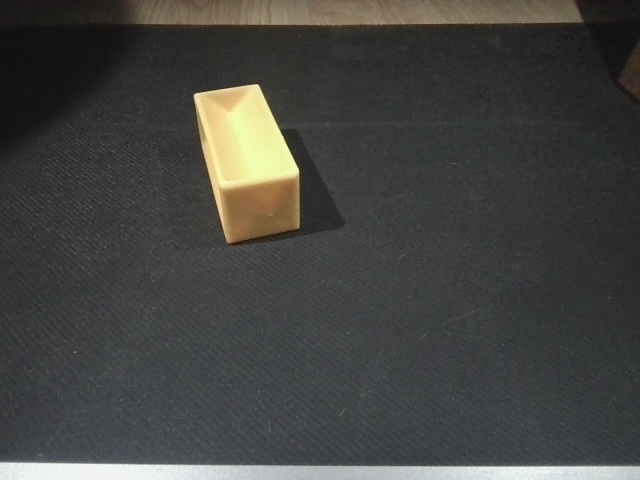YellowSample: (189, 78, 307, 246)
